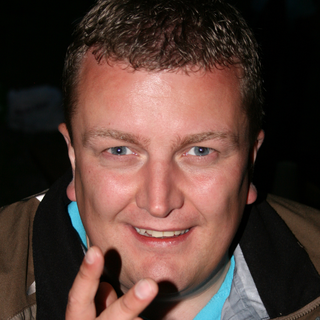eye: (97, 140, 144, 164), (176, 140, 221, 164)
